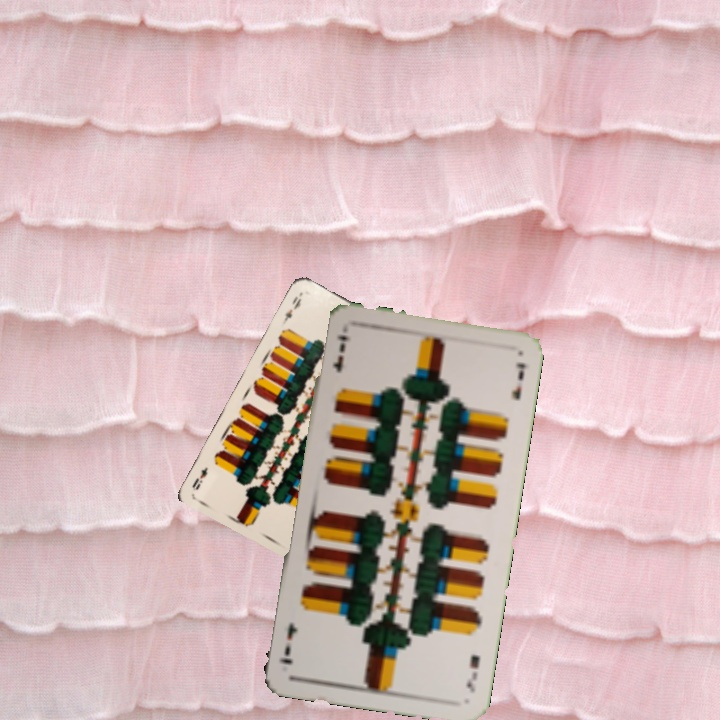E7: (328, 331, 350, 374), (462, 650, 482, 695)
E9: (278, 292, 304, 326)
